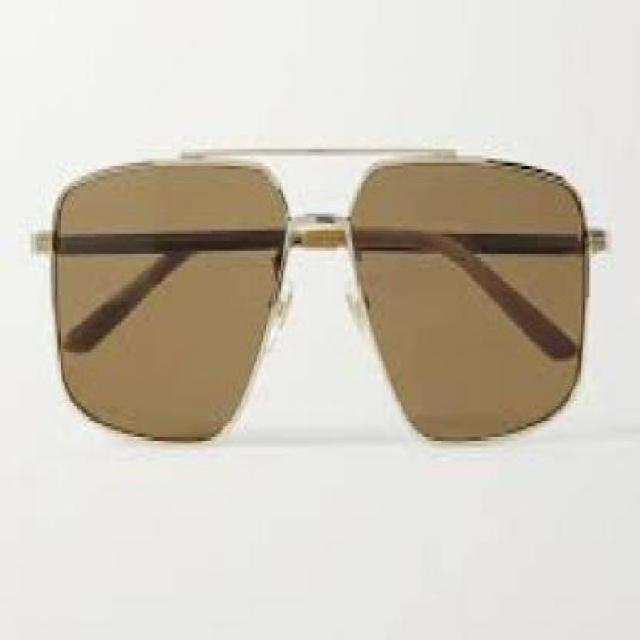gozluk: (40, 118, 609, 494)
